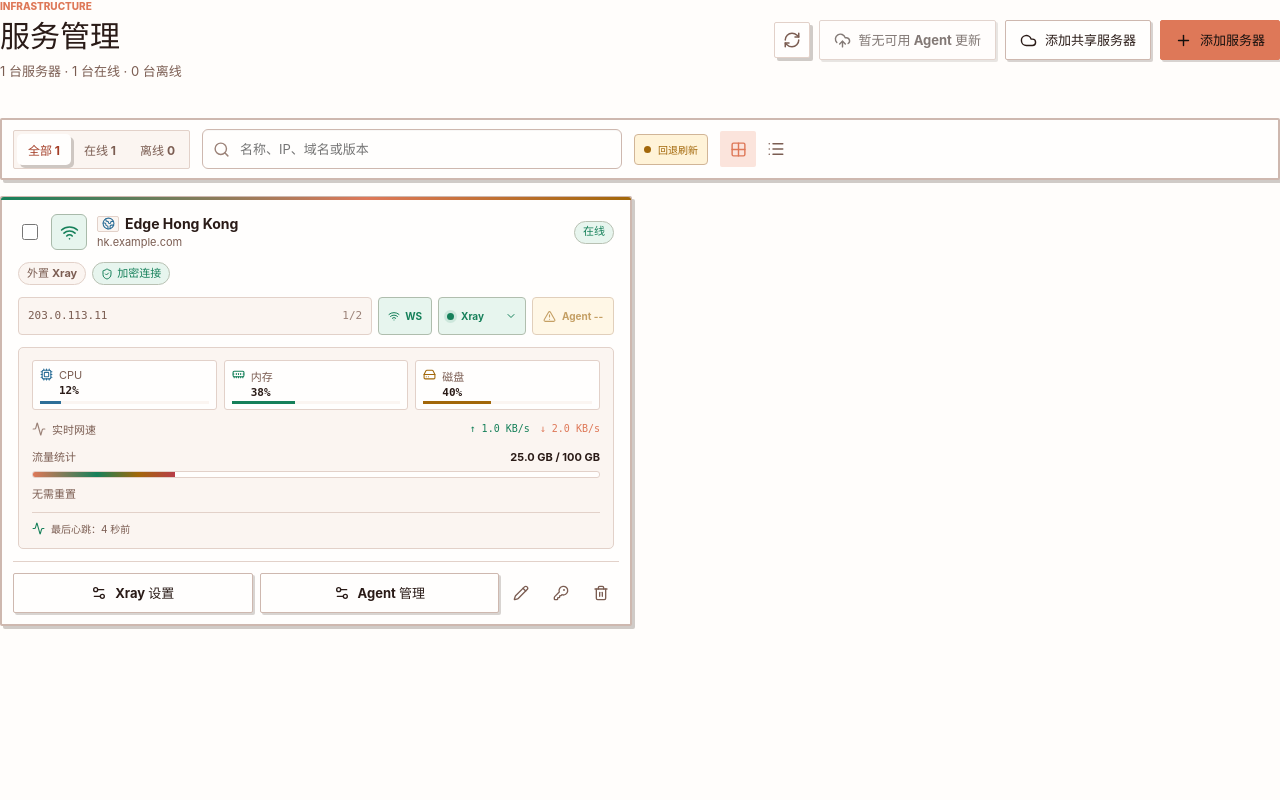
Test case: service management workbench › creates a server with connection, traffic and runtime settings
expect the text "Edge Hong Kong" is shown: met, box left=125, top=215, right=238, bottom=232
Step 1. Click the button "添加服务器" → (1220, 40), box left=1160, top=20, right=1279, bottom=60
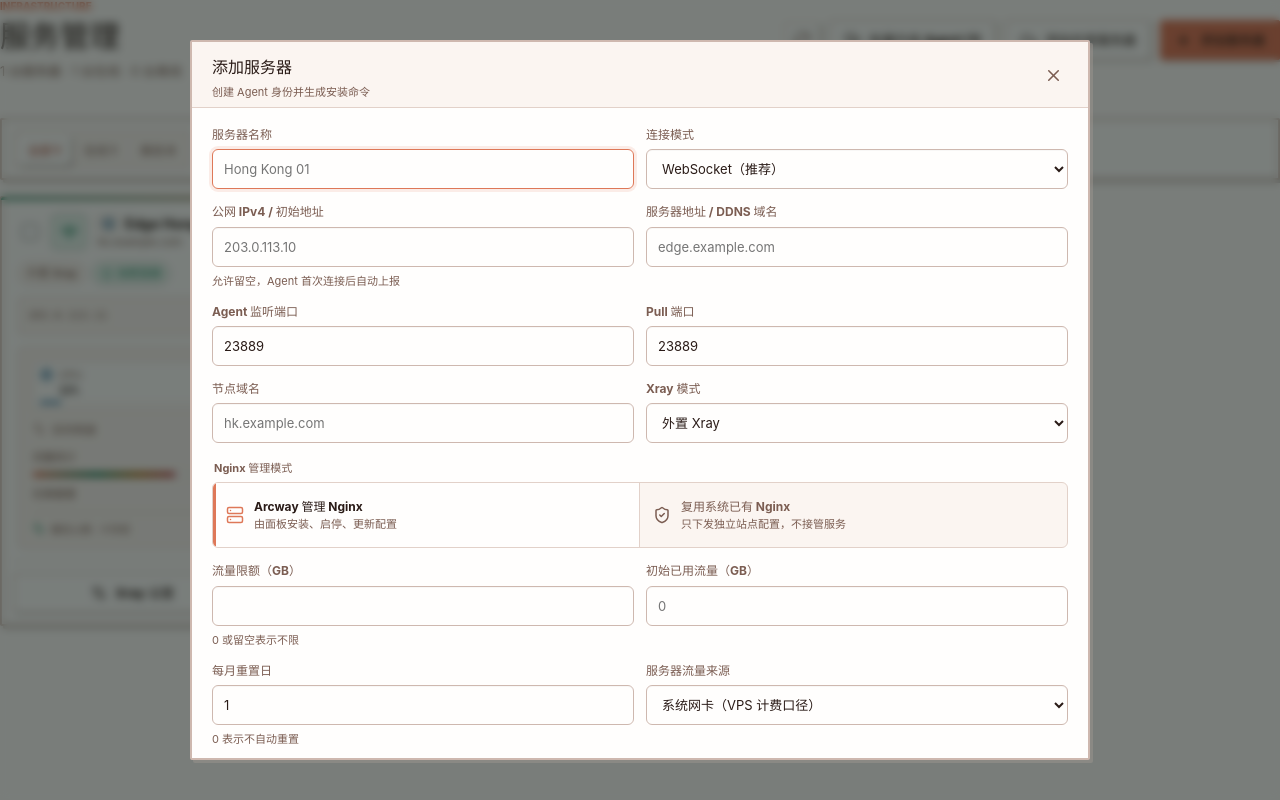
Step 2. Type "Edge Singapore" into the field labelled "服务器名称" → (423, 169), box left=212, top=149, right=634, bottom=189
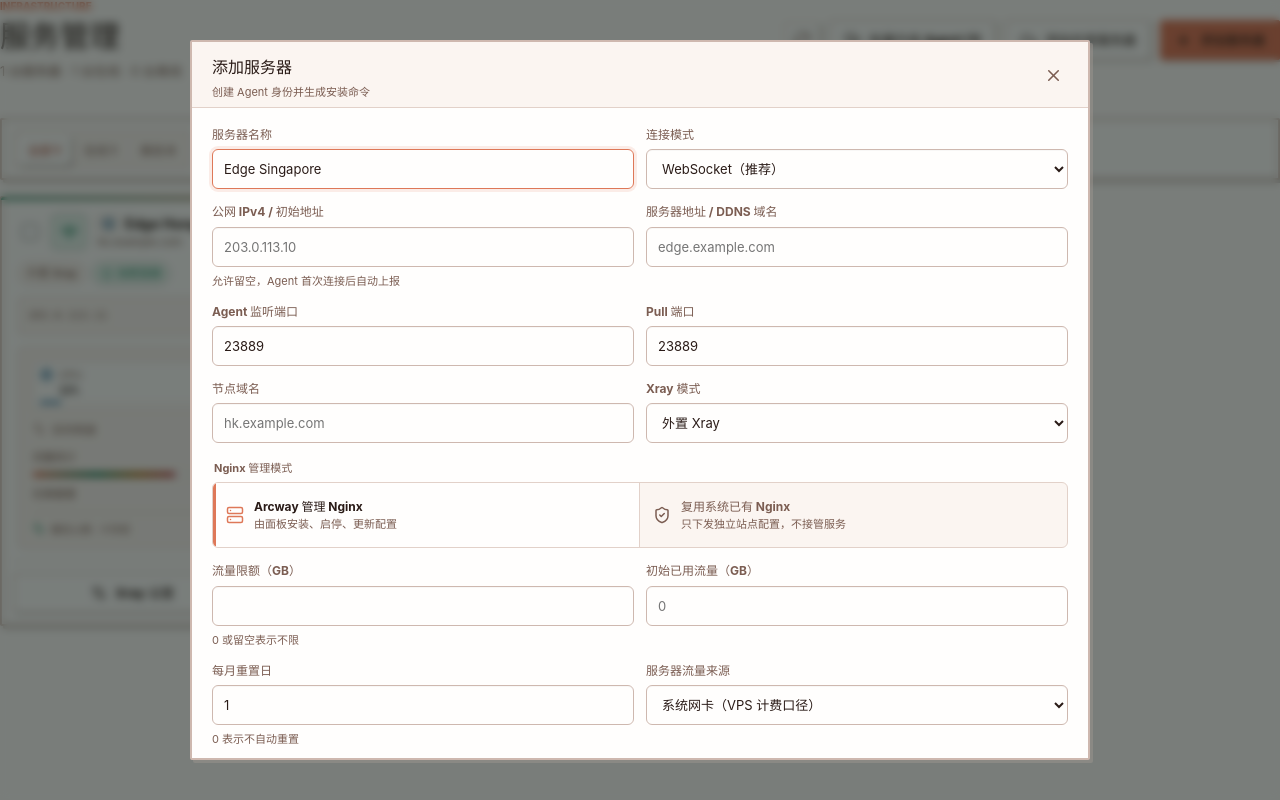
Step 3. Type "203.0.113.13" into the field labelled "公网 IPv4 / 初始地址 允许留空，Agent 首次连接后自动上报" → (423, 247), box left=212, top=227, right=634, bottom=267
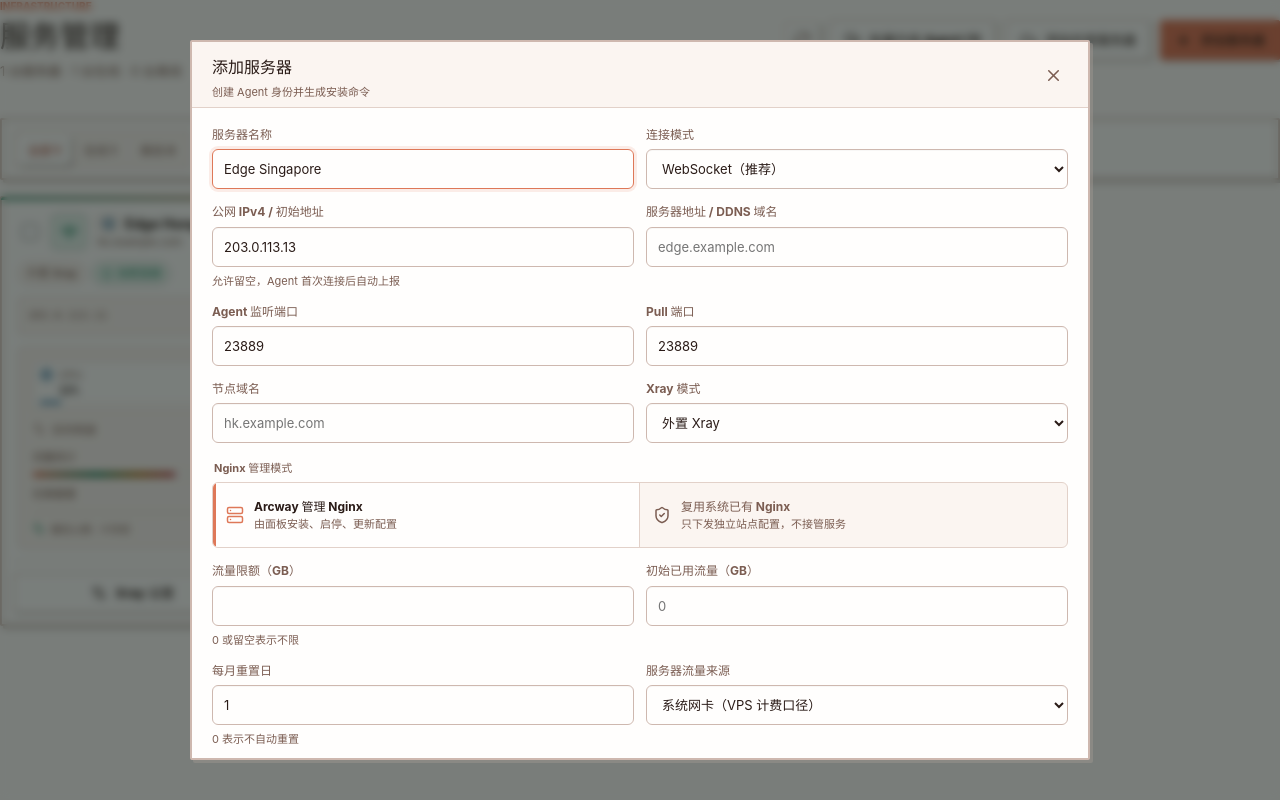
Step 4. Type "500" into the number field labelled "流量限额（GB） 0 或留空表示不限" → (423, 606), box left=212, top=586, right=634, bottom=626
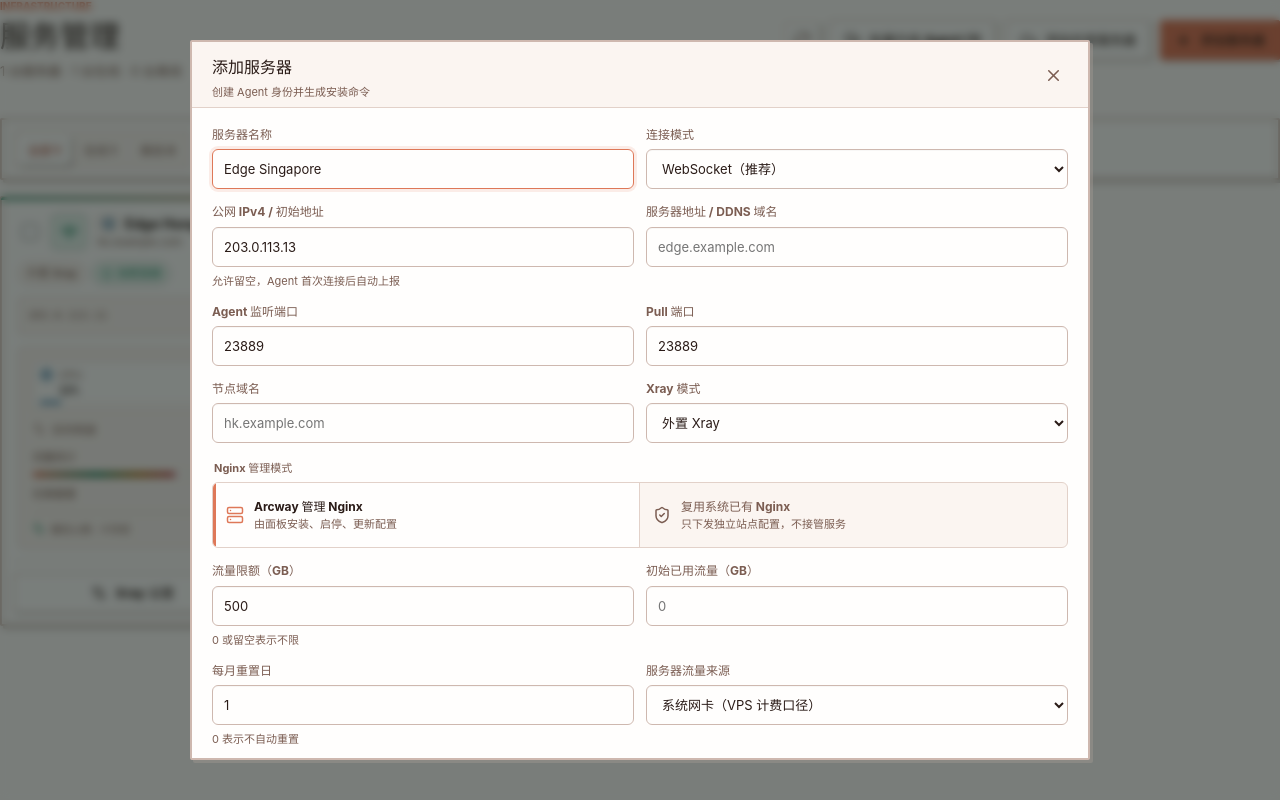
Step 5. Select "内嵌 Xray" in the dropdown labelled "Xray 模式" → (857, 423), box left=646, top=403, right=1068, bottom=443
(page scrolled)
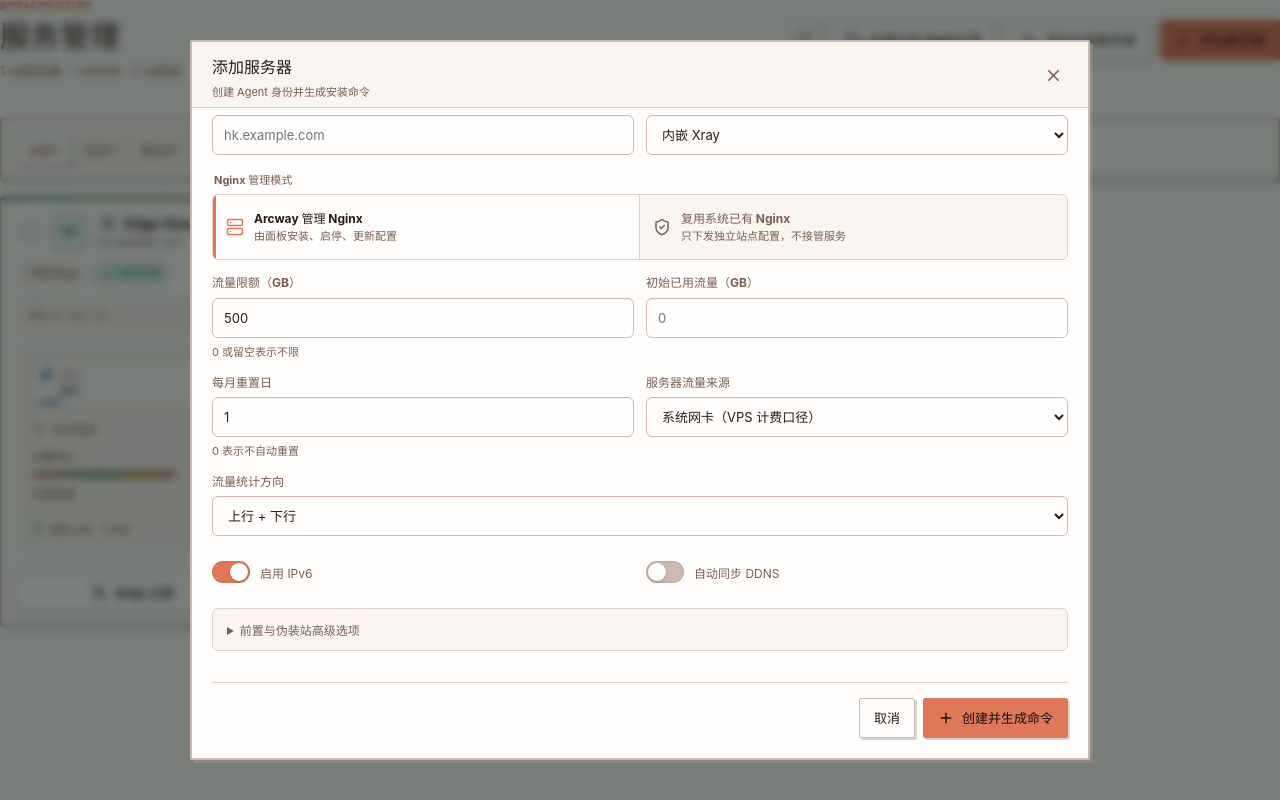
Step 6. Click the button "创建并生成命令" → (996, 718), box left=923, top=698, right=1068, bottom=738
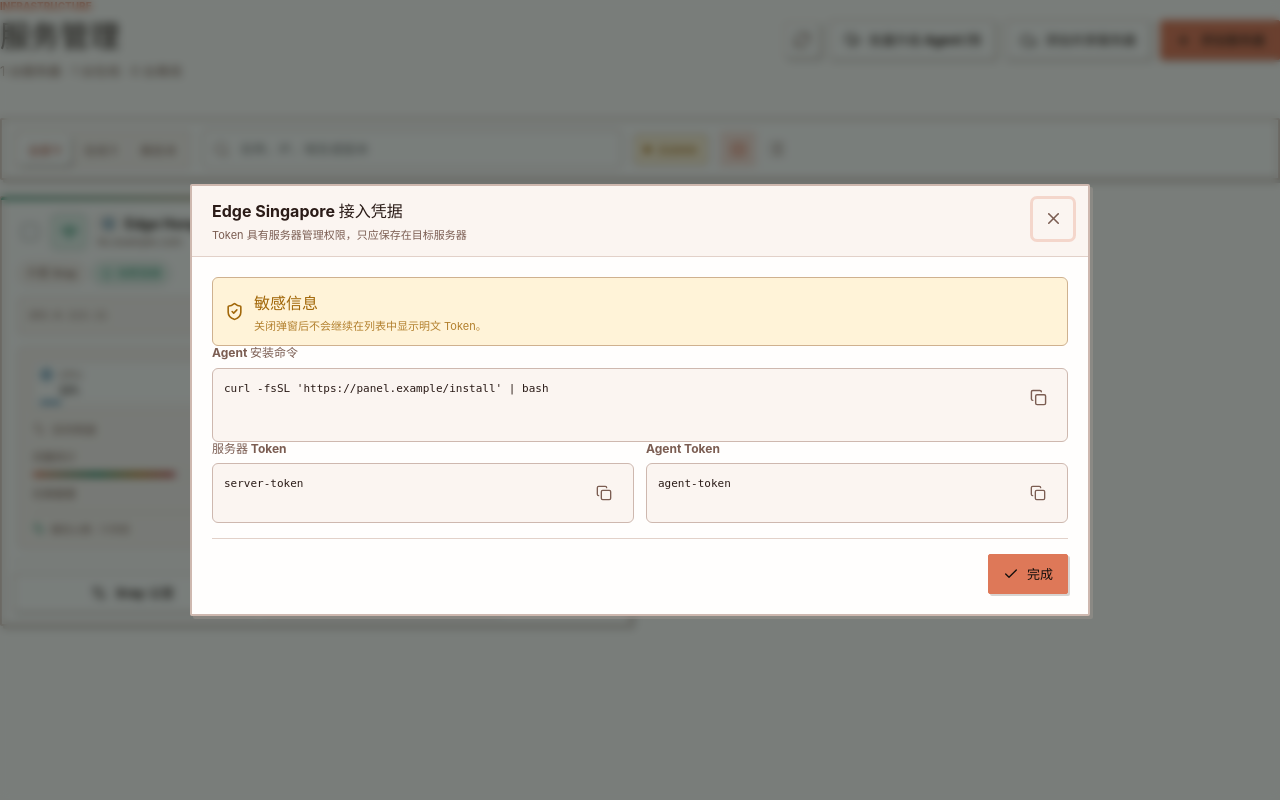
expect the dialog "Edge Singapore 接入凭据" is shown: met, box left=190, top=184, right=1090, bottom=616
